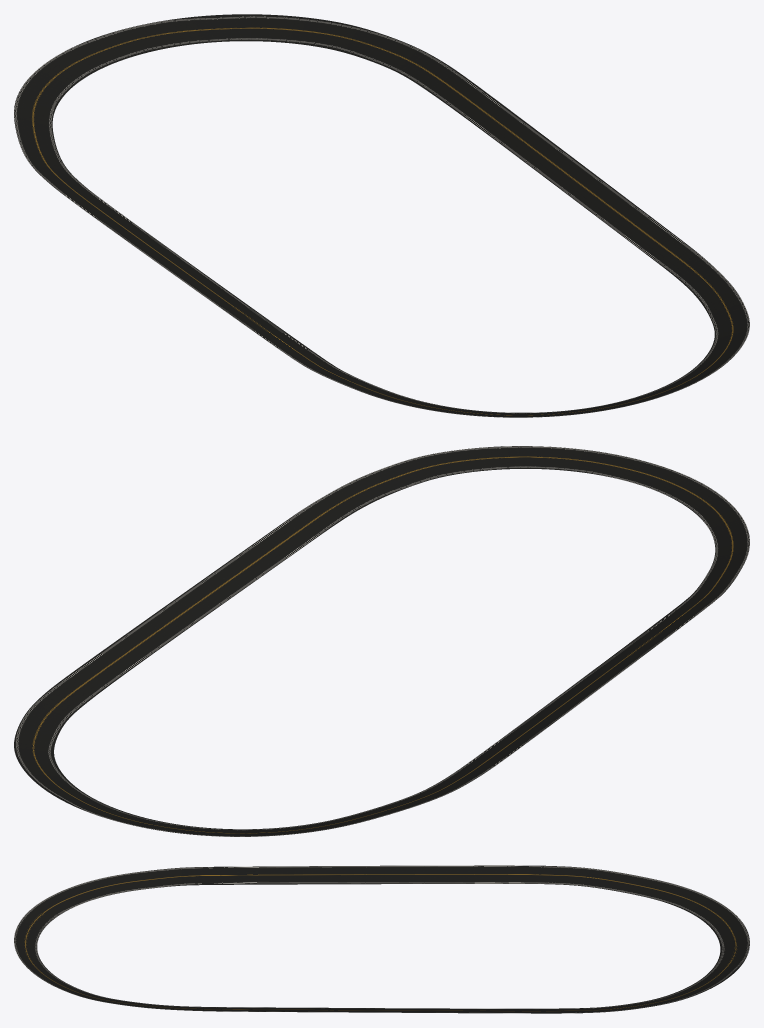
File: road_propertion.glb
The picture shows the model from 3 angles, top to bottom: view 1: azimuth 30°, elevation 25°; view 2: azimuth 150°, elevation 25°; view 3: azimuth 270°, elevation 25°; orthographic projection. The views are drawn at different scales.
Parts seen in each view (by area): view 1: Circle.001; view 2: Circle.001; view 3: Circle.001.
Boxes of the visible parts, x1,y1,x2,y2 form: Circle.001: (14,14,749,417); Circle.001: (14,446,749,836); Circle.001: (14,865,749,1013).
Bounding box in the file's own units: 224 × 4.67 × 470.
Materials: 1 (1 with a texture image).
